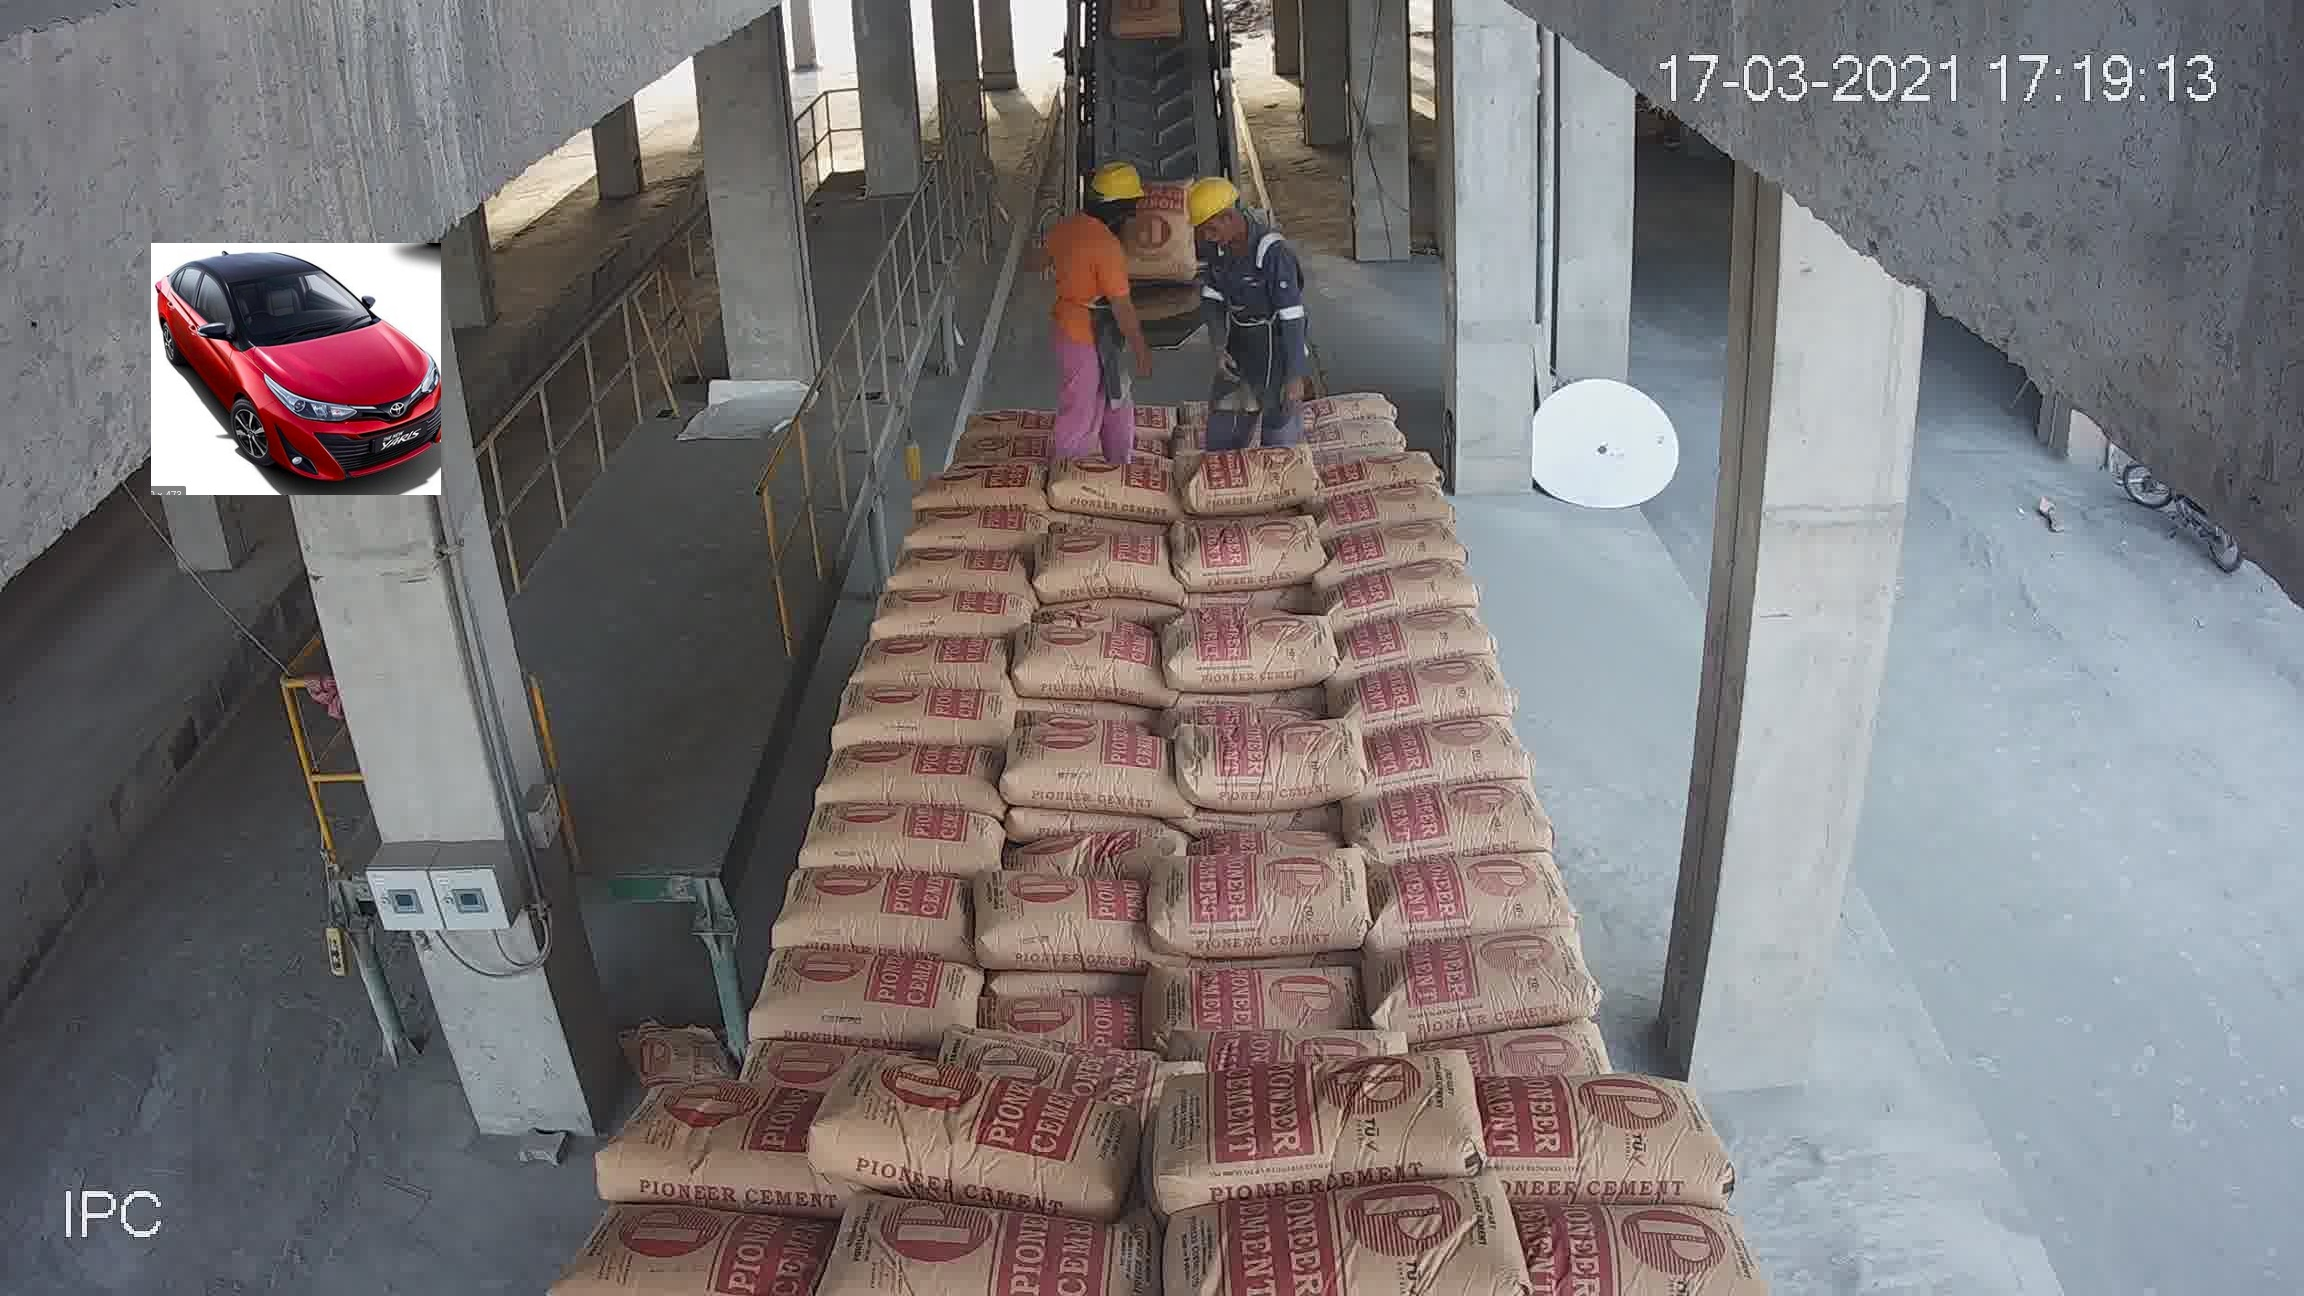bag: (1120, 177, 1193, 283), (1111, 9, 1188, 36)
bag_h: (1161, 1032, 1487, 1212), (812, 1048, 1135, 1193), (1161, 1174, 1524, 1293), (1464, 1071, 1728, 1212), (837, 1198, 1174, 1294), (1146, 843, 1367, 976), (1374, 919, 1609, 1035), (1355, 843, 1586, 953), (590, 1093, 802, 1212), (1353, 782, 1563, 885), (737, 961, 983, 1044), (813, 722, 1010, 820), (565, 1222, 818, 1296), (772, 870, 984, 956), (1522, 1218, 1764, 1293), (975, 869, 1157, 967), (788, 801, 1006, 881), (1136, 957, 1367, 1033), (1160, 722, 1367, 805), (1348, 720, 1541, 799), (1011, 720, 1165, 812), (1166, 1019, 1404, 1078), (1155, 620, 1332, 696), (995, 623, 1166, 701), (869, 570, 1046, 642), (817, 687, 1040, 744), (1343, 661, 1521, 733), (972, 1036, 1158, 1101), (1342, 608, 1500, 684), (1184, 441, 1321, 519), (1029, 813, 1185, 881), (1035, 532, 1171, 609), (1465, 1025, 1643, 1082), (1182, 521, 1321, 592), (1317, 562, 1487, 619), (972, 983, 1135, 1040), (836, 631, 1000, 687), (910, 451, 1051, 511), (878, 532, 1022, 590), (904, 497, 1049, 554), (1307, 438, 1448, 495), (1313, 481, 1456, 532), (1048, 457, 1174, 513), (1332, 519, 1470, 570), (937, 434, 1049, 478), (1302, 418, 1416, 460), (1298, 388, 1396, 423), (956, 407, 1063, 438)
belt: (1060, 43, 1260, 345)
